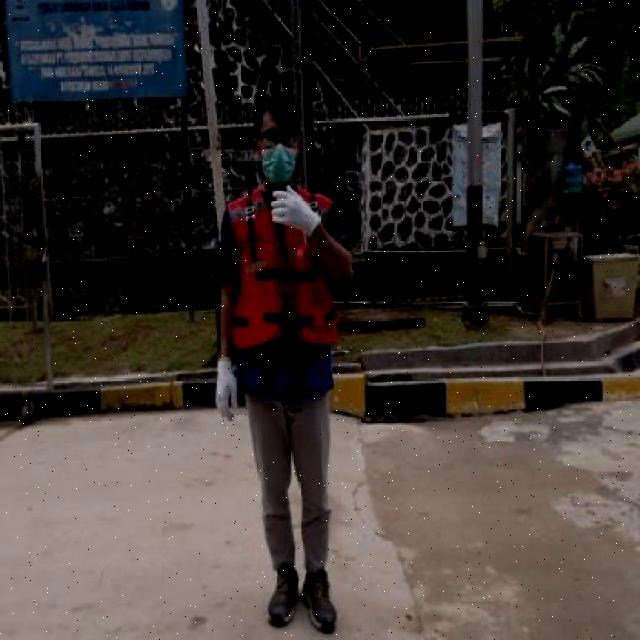Boots: (300, 570, 340, 635), (264, 562, 301, 627)
Gloves: (268, 181, 324, 242), (214, 354, 242, 422)
Mask: (230, 238, 342, 350)
